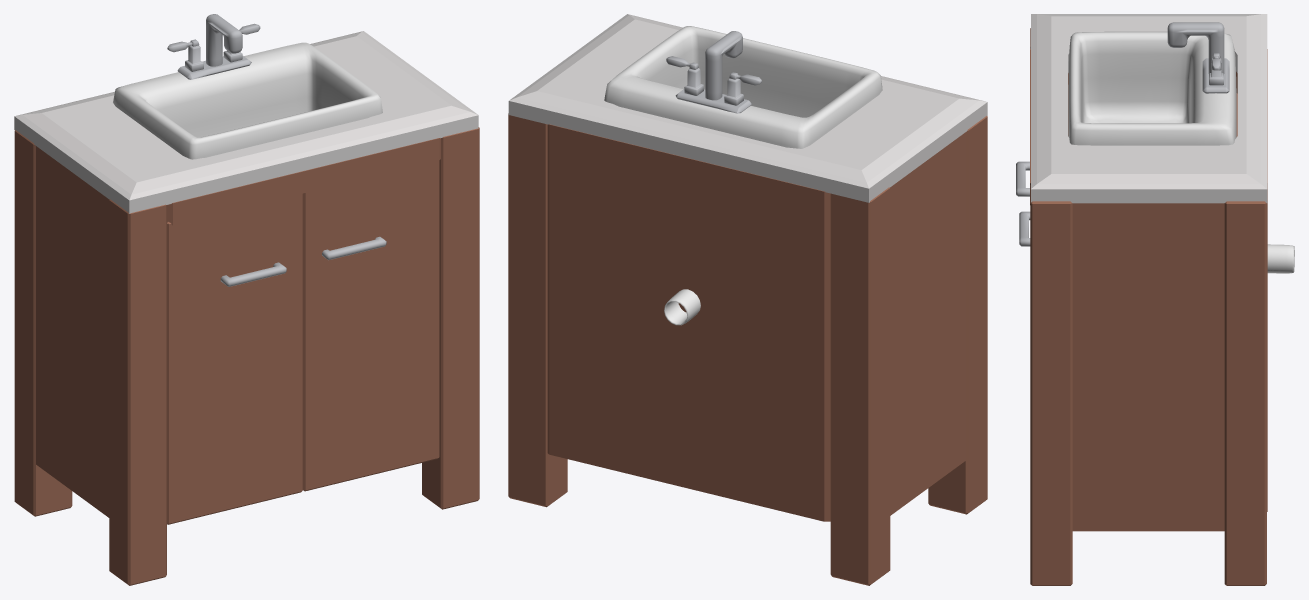
The model's file is Sink.fbx.
3 views of the same model, side by side, from view 1: azimuth 30°, elevation 25°; view 2: azimuth 150°, elevation 25°; view 3: azimuth 270°, elevation 25° (orthographic). The views are drawn at different scales.
Parts seen in each view (by area): view 1: Sink, Sink_cabinetdoor_right, Sink_cabinetdoor_left; view 2: Sink, Sink_pipe.006; view 3: Sink, Sink_pipe.006, Sink_cabinetdoor_left, Sink_cabinetdoor_right.
Boxes of the visible parts, x1,y1,x2,y2 form: Sink: (14, 14, 479, 585); Sink_cabinetdoor_right: (303, 160, 439, 491); Sink_cabinetdoor_left: (167, 193, 302, 524); Sink: (508, 14, 987, 585); Sink_pipe.006: (664, 289, 700, 325); Sink: (1030, 14, 1267, 585); Sink_pipe.006: (1267, 244, 1294, 273); Sink_cabinetdoor_left: (1016, 161, 1029, 196); Sink_cabinetdoor_right: (1019, 211, 1030, 246).
Bounding box in the file's own units: 198 × 248 × 132.
